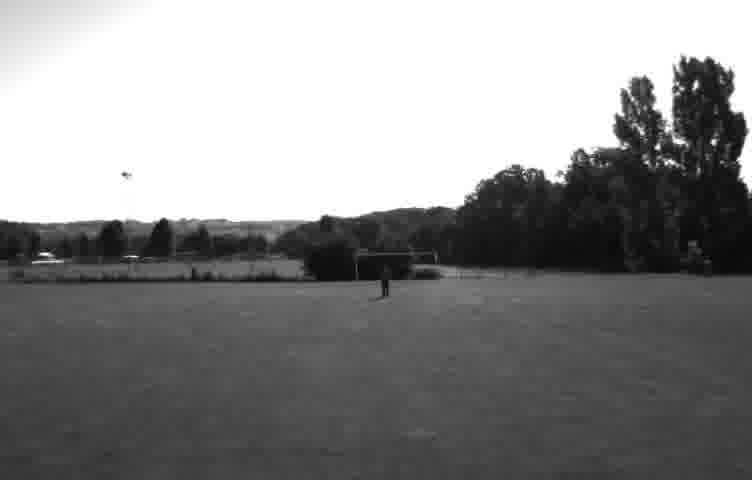drone: (117, 169, 137, 180)
